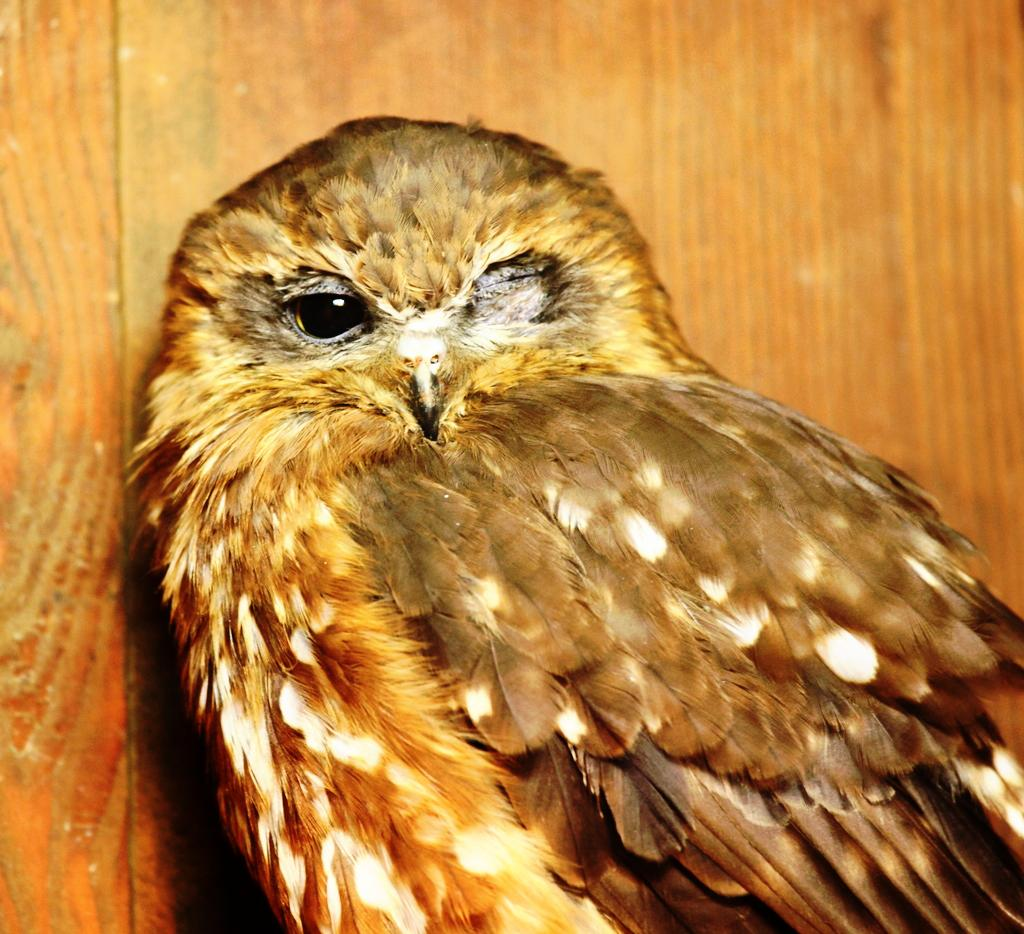Owl: (124, 108, 1024, 934)
